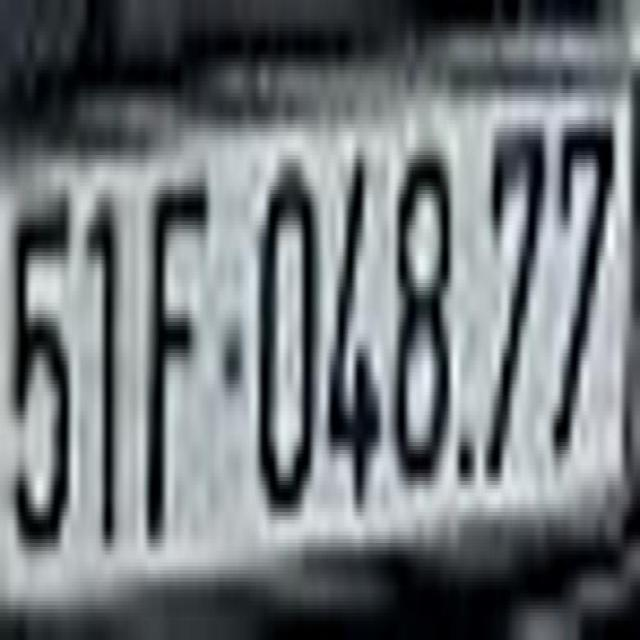0: (258, 156, 316, 532)
1: (82, 182, 123, 558)
4: (323, 143, 383, 516)
5: (7, 182, 70, 558)
7: (484, 112, 546, 512), (551, 113, 618, 473)
8: (394, 128, 451, 485)
F: (144, 171, 208, 531)
